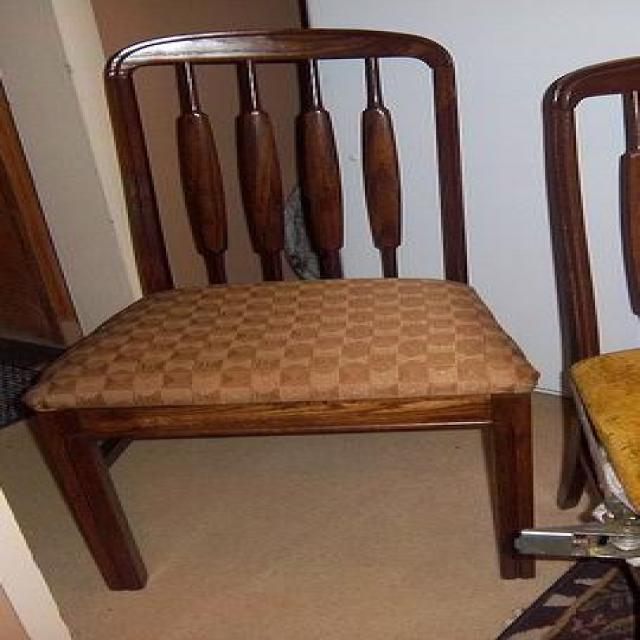chair: (19, 25, 540, 591)
